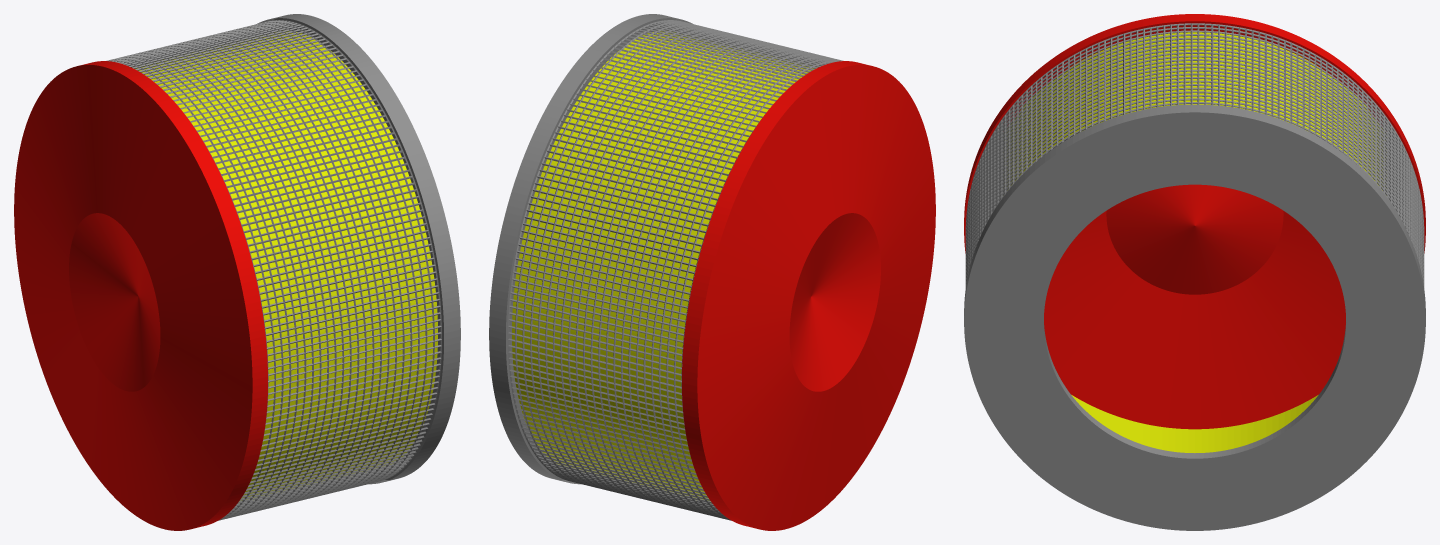
Rendered from filtro.glb.
3 renders of one model, left to right at view 1: azimuth 30°, elevation 25°; view 2: azimuth 150°, elevation 25°; view 3: azimuth 270°, elevation 25°, orthographic. The views are drawn at different scales.
Parts seen in each view (by area): view 1: G051696_VTLF 2.250 0-79.1VSVRSV SCM EUII IE3 WAT v1.038; view 2: G051696_VTLF 2.250 0-79.1VSVRSV SCM EUII IE3 WAT v1.038; view 3: G051696_VTLF 2.250 0-79.1VSVRSV SCM EUII IE3 WAT v1.038.
Part boxes in pixels (x1=…): G051696_VTLF 2.250 0-79.1VSVRSV SCM EUII IE3 WAT v1.038: x1=14, y1=14, x2=460, y2=530; G051696_VTLF 2.250 0-79.1VSVRSV SCM EUII IE3 WAT v1.038: x1=489, y1=14, x2=935, y2=530; G051696_VTLF 2.250 0-79.1VSVRSV SCM EUII IE3 WAT v1.038: x1=964, y1=14, x2=1425, y2=530.
Bounding box in the file's own units: 0.1184 × 0.2156 × 0.2156.
